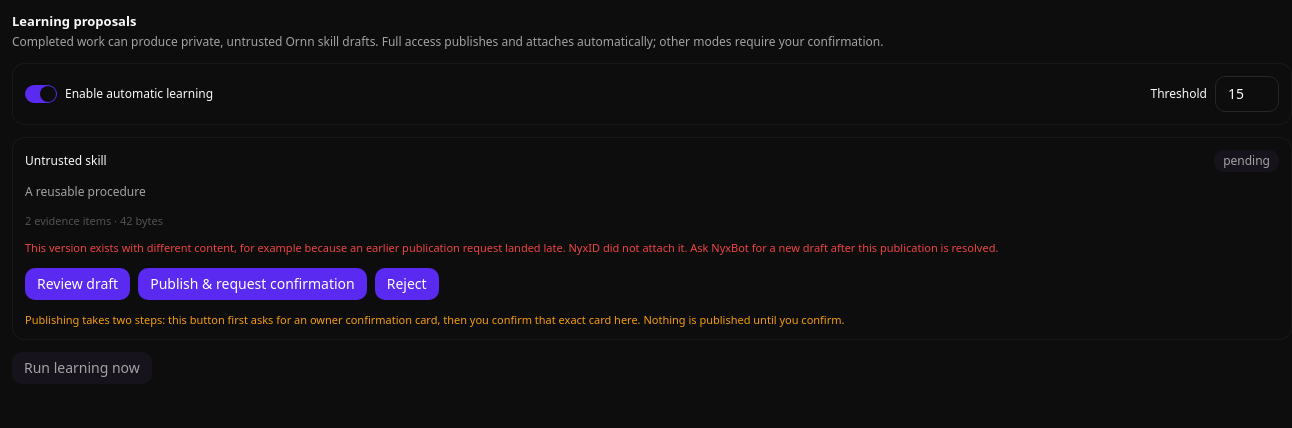
Test: AgentLearningReview › shows a refused learned confirmation instead of failing silently
Expected: the text "This version exists with different content" is shown, [25,240,998,255]
What coordinates should you click on to do the following:
click the button "Publish & request confirmation"
I would click on:
 (252, 284)
Its box is [138,268,367,300].
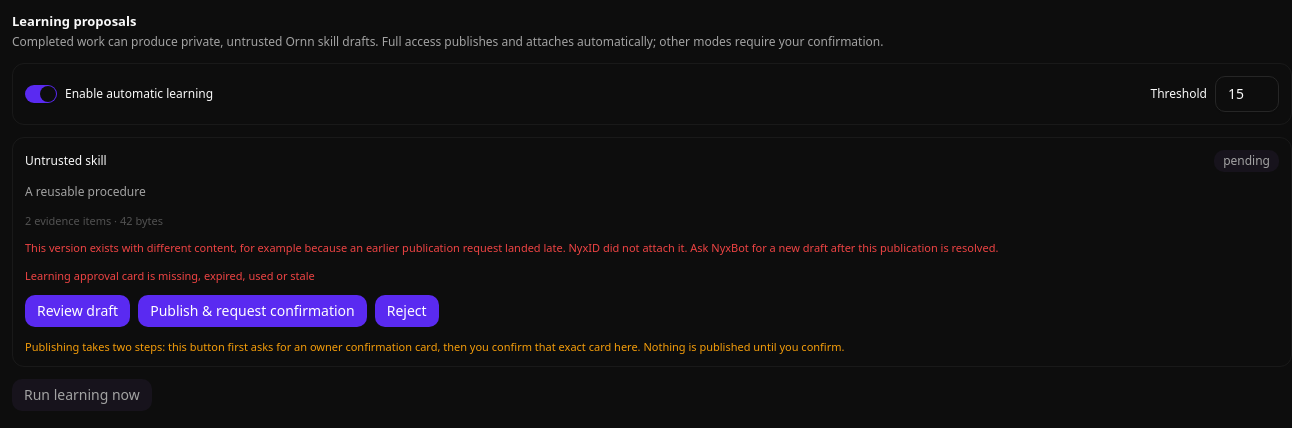
Expected: the text "Learning approval card is missing, expired, used or stale" is shown, [25,268,315,283]
